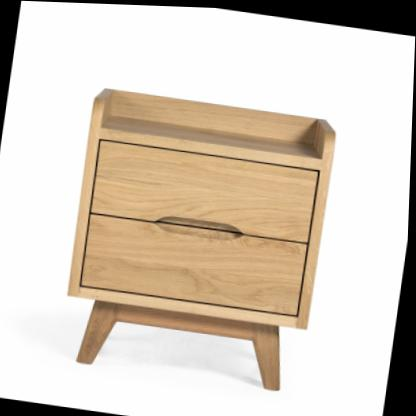Nightstand: (61, 81, 340, 392)
